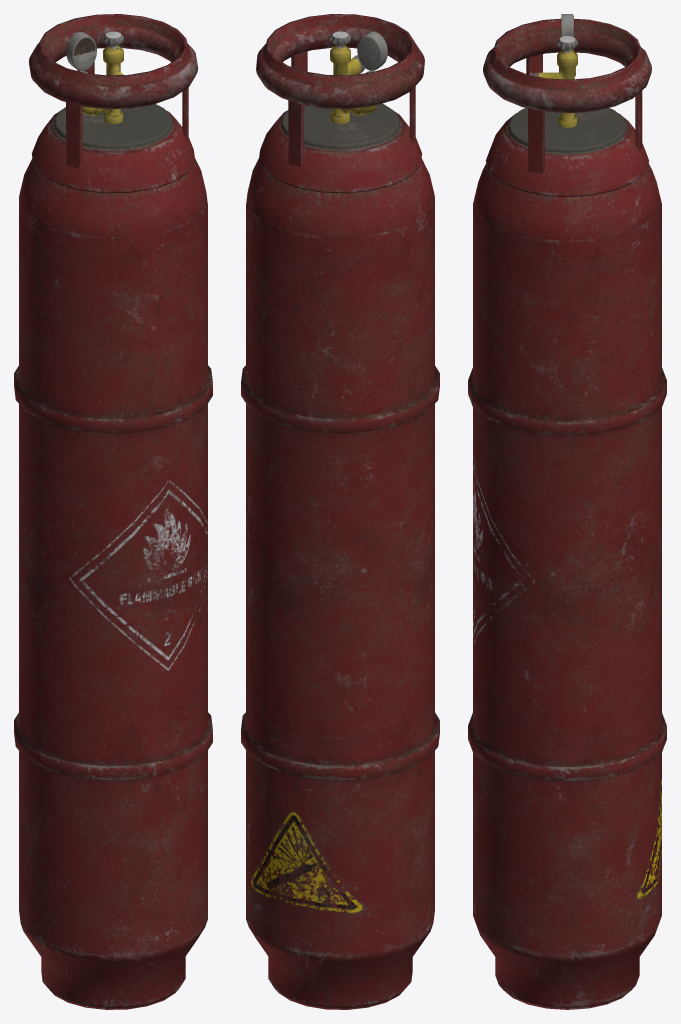
Rendered from gas_cylinder_converted.fbx.
The picture shows the model from 3 angles, left to right: view 1: azimuth 30°, elevation 25°; view 2: azimuth 150°, elevation 25°; view 3: azimuth 270°, elevation 25°; orthographic projection.
Parts seen in each view (by area): view 1: Gas_Cylinder_SM_M_Canister_Gas_0; view 2: Gas_Cylinder_SM_M_Canister_Gas_0; view 3: Gas_Cylinder_SM_M_Canister_Gas_0.
Part boxes in pixels (x1=…): Gas_Cylinder_SM_M_Canister_Gas_0: x1=14, y1=14, x2=212, y2=1009; Gas_Cylinder_SM_M_Canister_Gas_0: x1=241, y1=14, x2=439, y2=1009; Gas_Cylinder_SM_M_Canister_Gas_0: x1=468, y1=14, x2=666, y2=1009.
Size of the model in its own units: 0.2282 by 1.2 by 0.2282.
2 materials, 2 textured.
